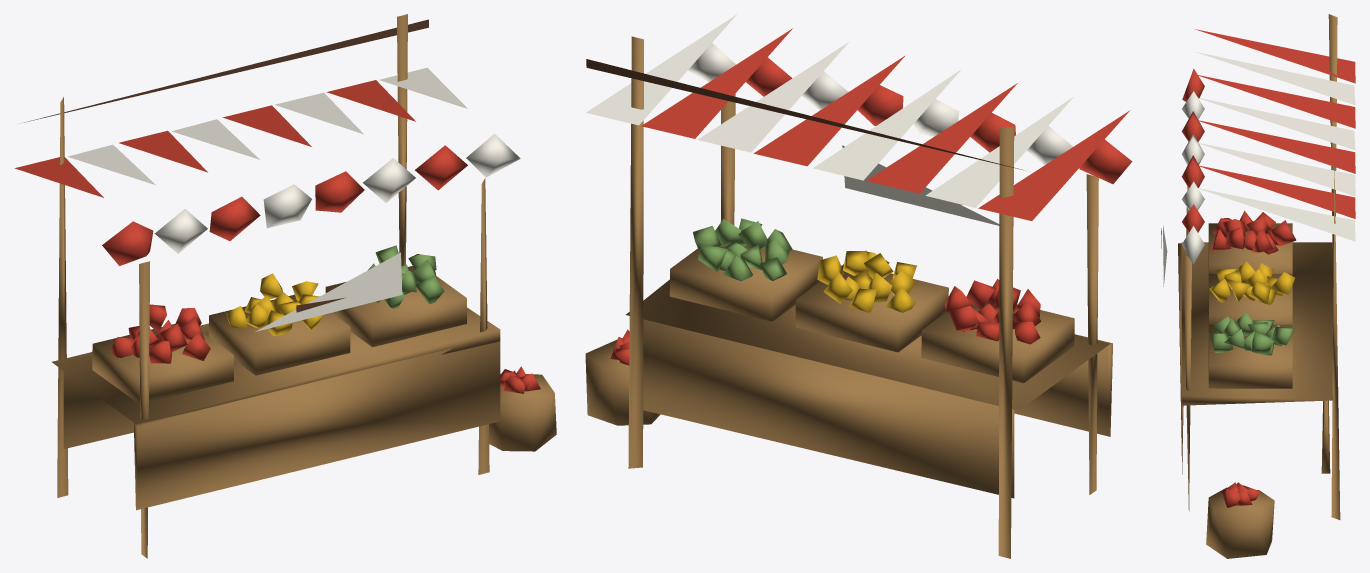
File: lod_fruit_stand.glb
3 views of the same model, side by side, from view 1: azimuth 30°, elevation 25°; view 2: azimuth 150°, elevation 25°; view 3: azimuth 270°, elevation 25° (orthographic). The views are drawn at different scales.
Parts seen in each view (by area): view 1: fruit_stand; view 2: fruit_stand; view 3: fruit_stand.
Boxes of the visible parts, x1=… form: fruit_stand: x1=14, y1=14, x2=556, y2=558; fruit_stand: x1=585, y1=14, x2=1132, y2=558; fruit_stand: x1=1161, y1=14, x2=1355, y2=558.
Bounding box in the file's own units: 2.84 × 2.29 × 1.14.
